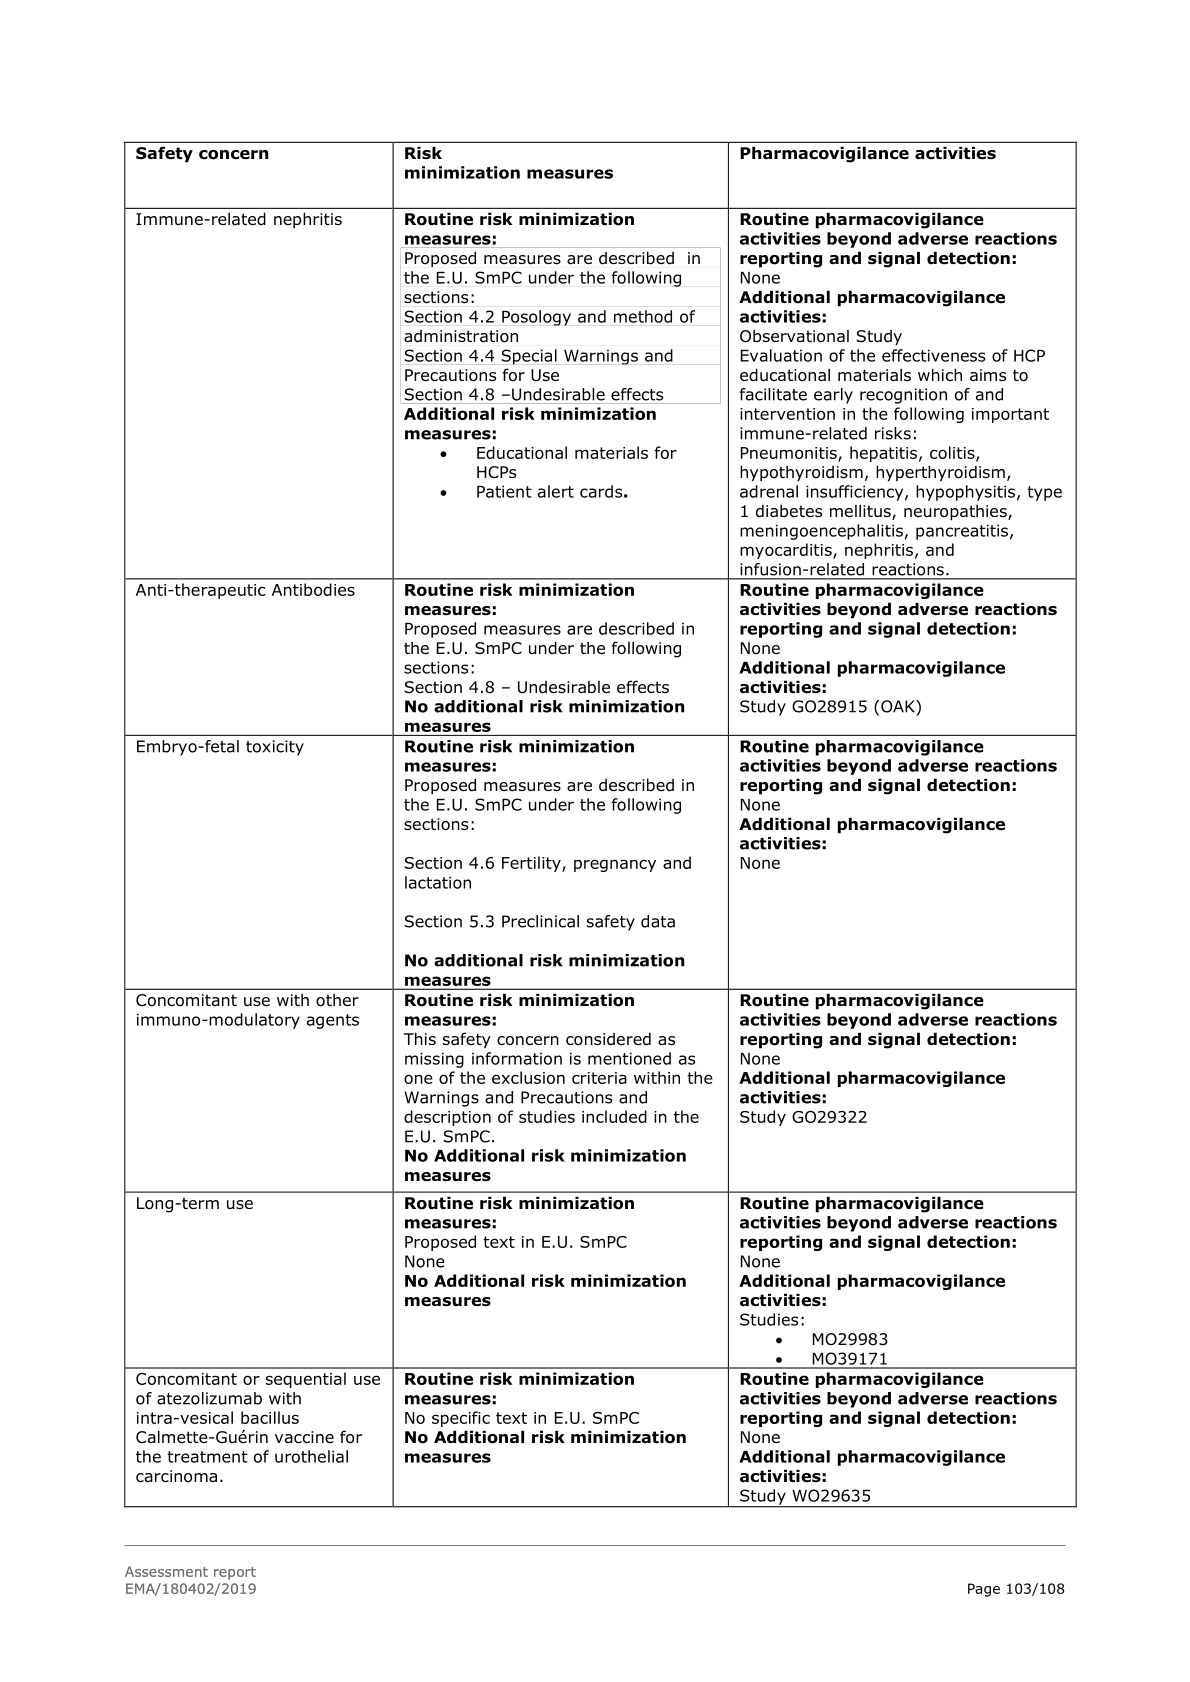full_lined: (116, 126, 1090, 1521)
